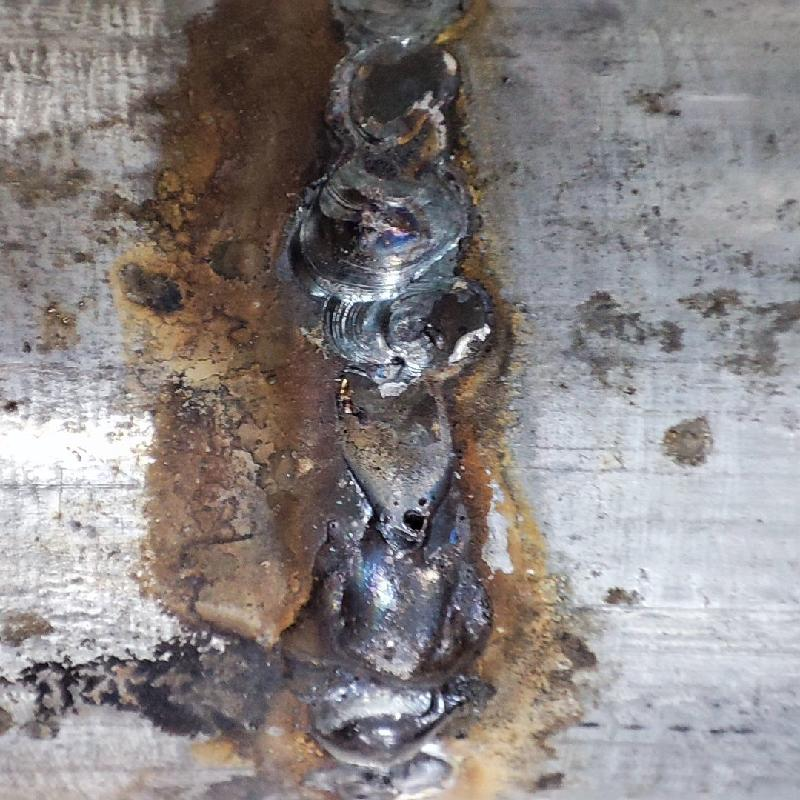Not_fully_soldered: (318, 306, 478, 544)
Surface_pores: (380, 490, 444, 539)
Weld: (283, 540, 489, 774)
wrong_size: (296, 5, 478, 305)
